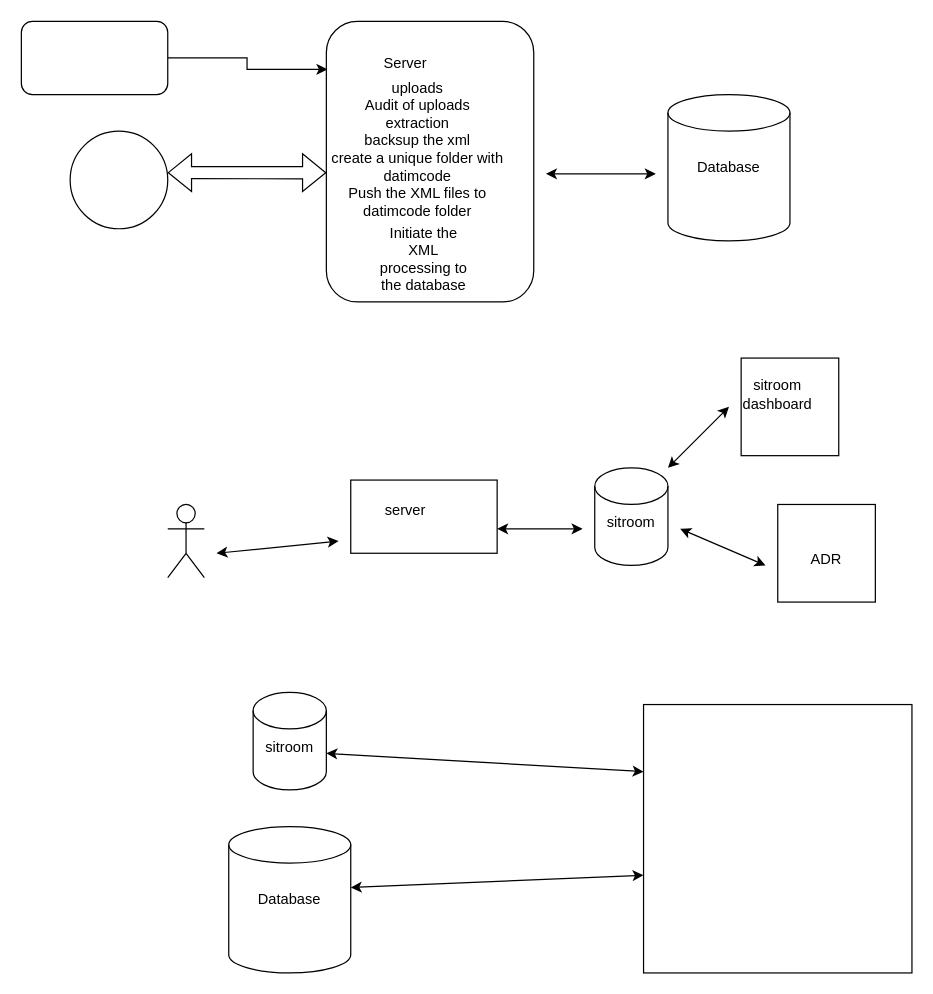
Some shapes in this 933 by 994 pixel diagram are drawn without their labels. The shapes that lost their labels are listed below. From the top down, each one's box as (x1, y1, x2, y2) in pixels, then its label:
(20, 20, 168, 95): Datasource
(69, 130, 168, 229): cronjob
(167, 503, 204, 578): Actor
(642, 703, 912, 973): MRP
